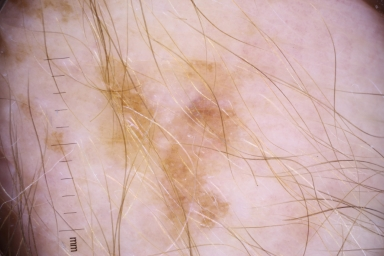nevus: (98, 55, 232, 237)
